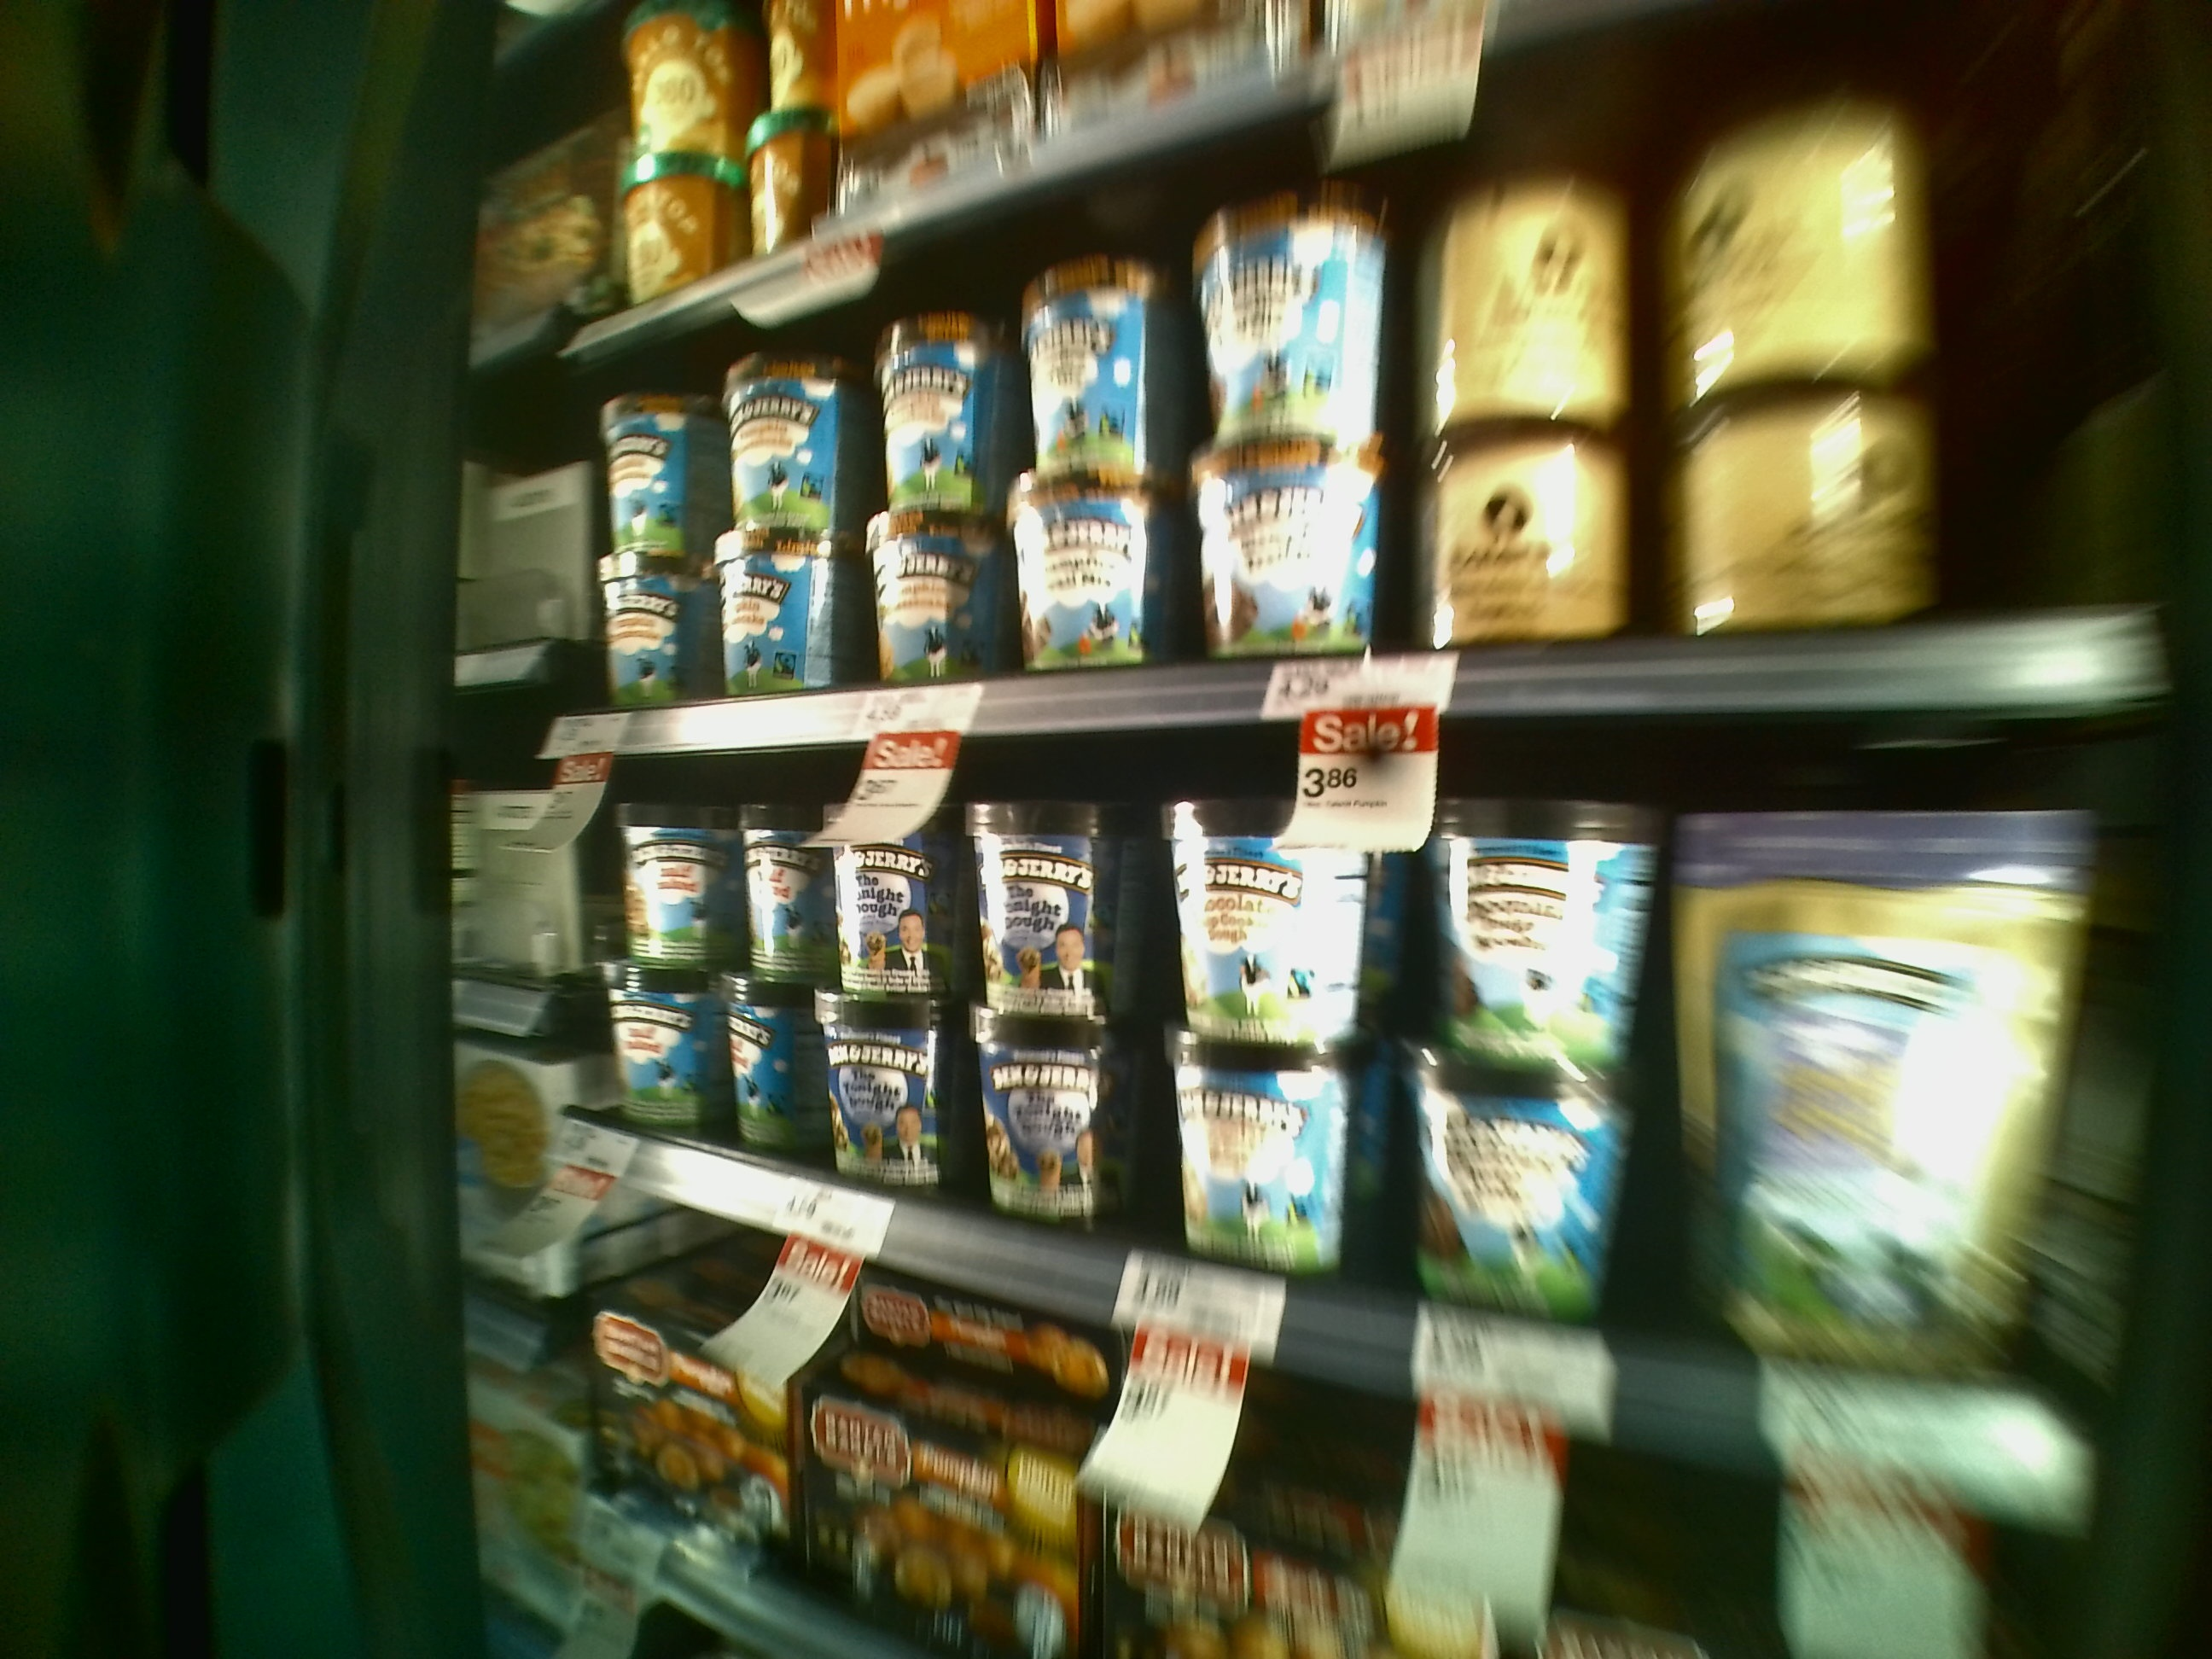shelf: (545, 713, 2116, 1474)
